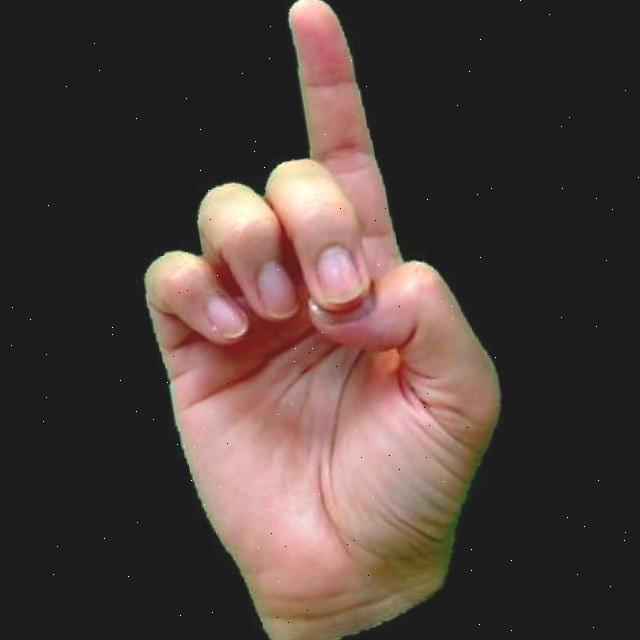d: (77, 0, 543, 640)
